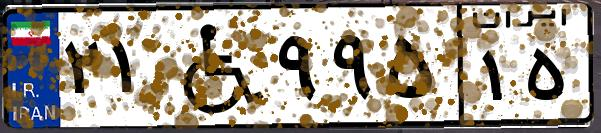1: (475, 38, 525, 113), (110, 28, 158, 98)
2: (57, 26, 110, 100)
5: (385, 28, 445, 110), (525, 38, 570, 115)
9: (270, 28, 330, 110), (330, 28, 385, 110)
ژ (معلولین و جانبازان): (158, 12, 270, 120)
